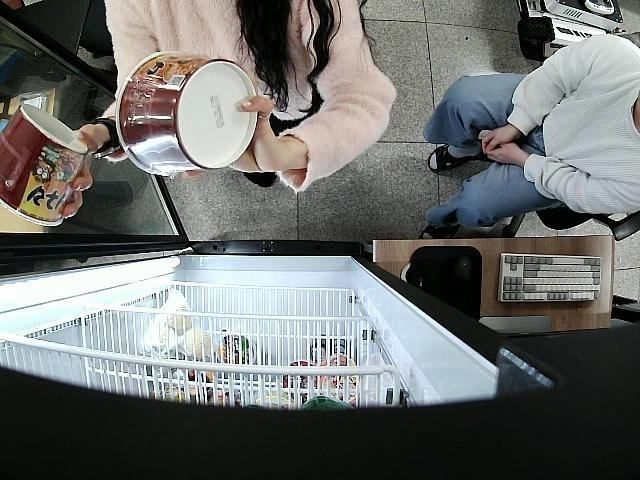05_nuguri_L: (117, 54, 260, 178), (0, 102, 87, 228)
